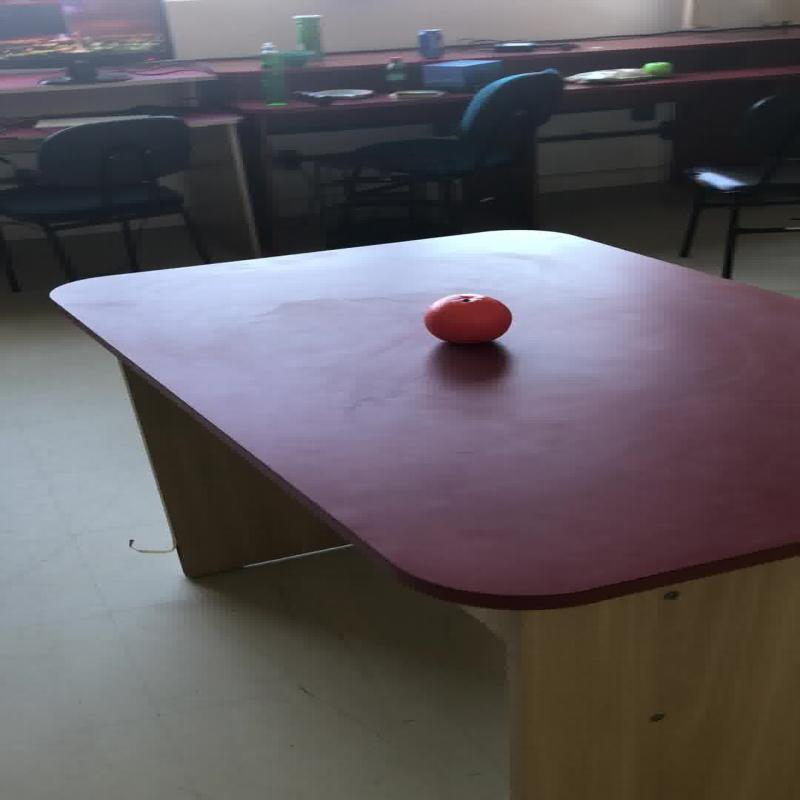orange: (422, 292, 511, 344), (640, 61, 672, 77)
